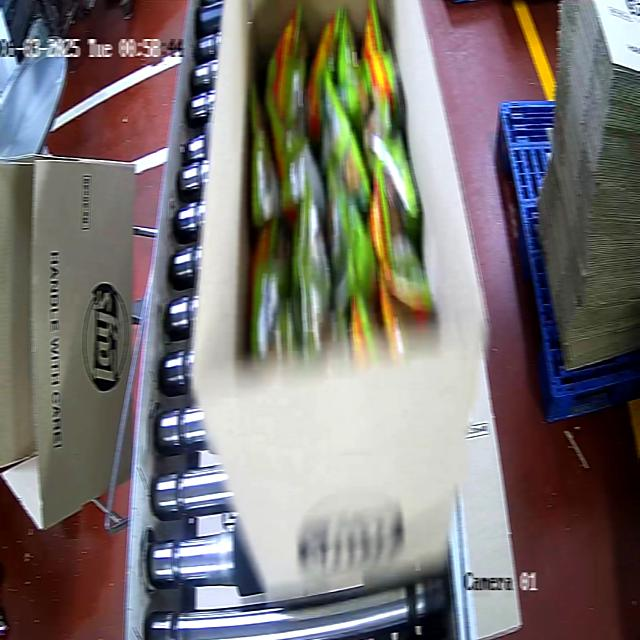YOGURT_HERB: (246, 2, 437, 370)
